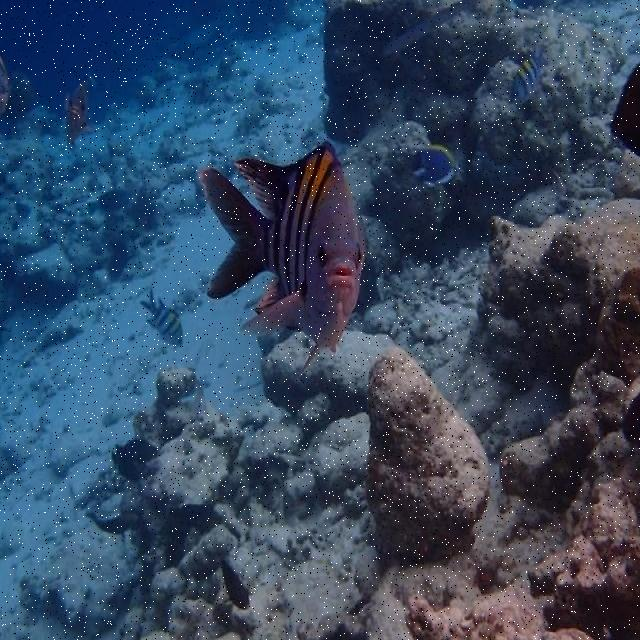fish: (199, 142, 367, 380), (64, 74, 99, 145), (140, 289, 183, 346), (411, 146, 456, 192), (511, 45, 545, 105)
